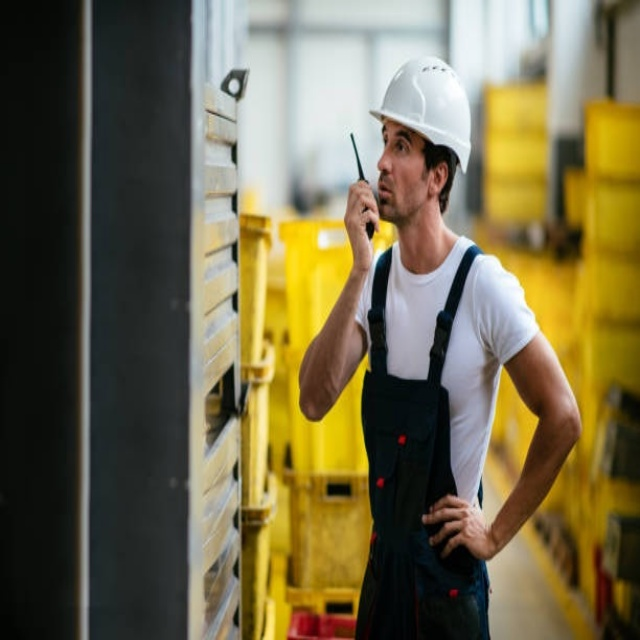Sin_gafas: (380, 121, 422, 162)
Sin_guantes: (421, 493, 489, 563), (343, 176, 381, 268)
Sin_mascara: (375, 169, 401, 216)
